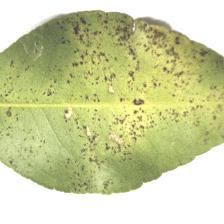canker: (64, 25, 203, 133)
